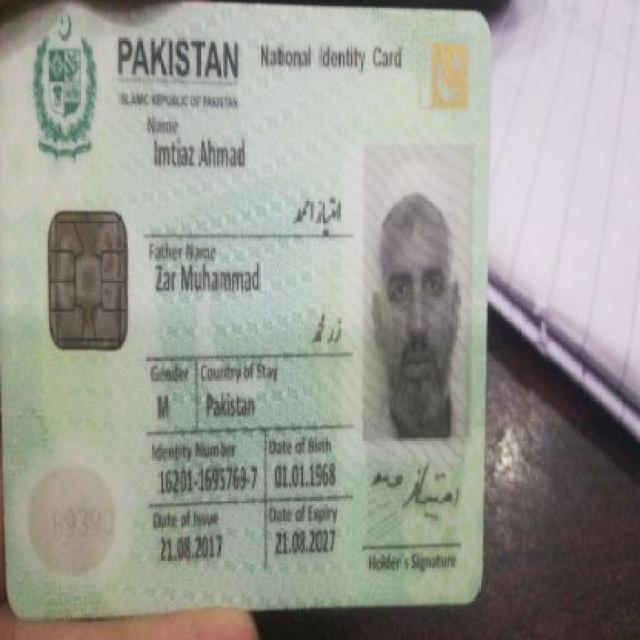Front: (4, 8, 493, 617)
